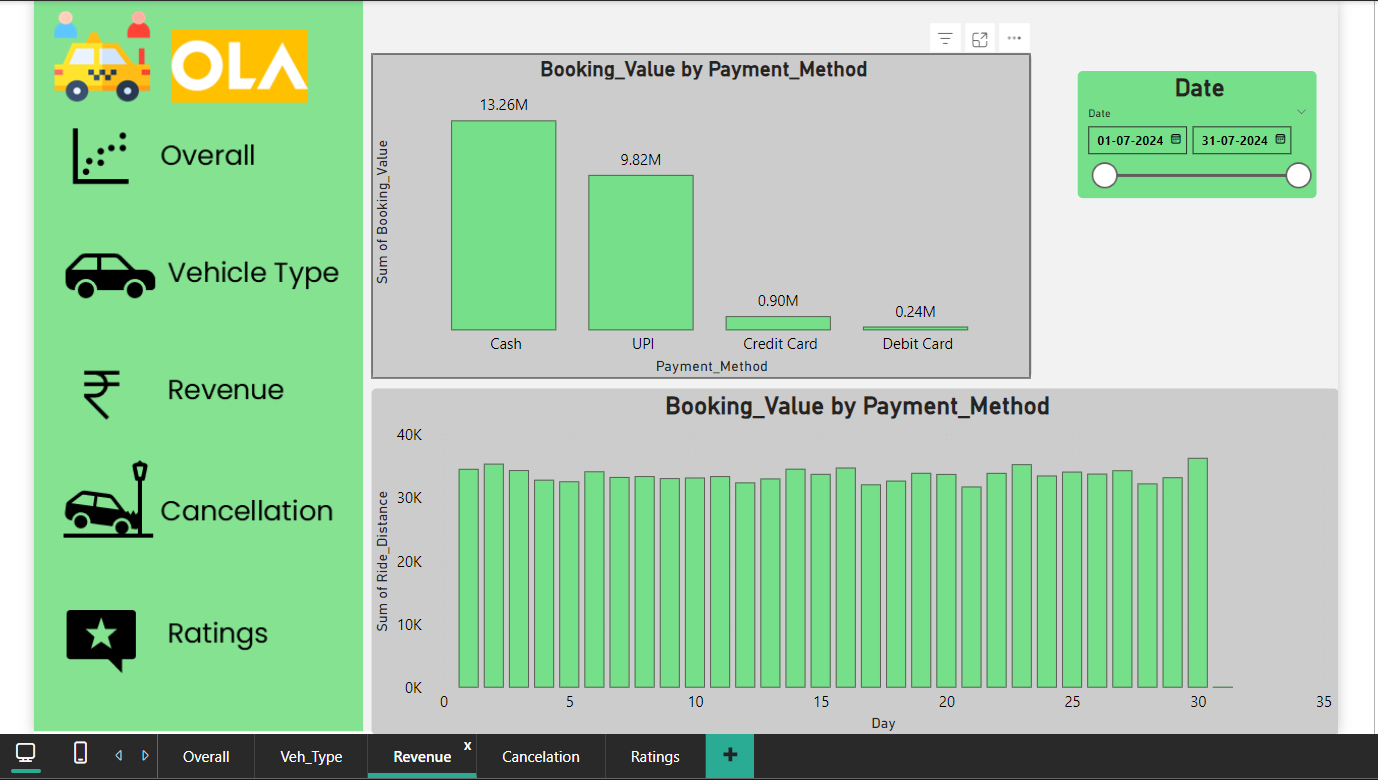

The dashboard page shown, as its layout file describes it:
{"tool":"powerbi","page":{"name":"Revenue","canvas":[1280,720],"ordinal":2},"visuals":[{"type":"actionButton","box":[0,109.2,321.5,83.4],"z":0},{"type":"actionButton","box":[0,223.3,321.5,83.4],"z":1000},{"type":"actionButton","box":[0,451.5,321.5,83.4],"z":2000},{"type":"actionButton","box":[0,586.5,321.5,83.4],"z":3000},{"type":"columnChart","title":"Booking_Value by Payment_Method","fields":{"Category":["ola_booking.Payment_Method"],"Y":["Sum(ola_booking.Booking_Value)"]},"box":[330.7,52.1,647.7,318.4],"z":4000},{"type":"columnChart","title":"Booking_Value by Payment_Method","fields":{"Y":["Sum(ola_booking.Ride_Distance)"],"Category":["ola_booking.Date.Variation.Date Hierarchy.Day"]},"box":[330.7,380.1,949.6,340.3],"z":5000},{"type":"slicer","title":"Date","fields":{"Values":["ola_booking.Date"]},"box":[1025,68.6,234.6,124.9],"z":6000}]}

Visuals, with their boxes in screenshot pixels (x1, y1, x2, y2):
actionButton: (29,105,358,190)
actionButton: (29,221,358,307)
actionButton: (29,455,358,541)
actionButton: (29,593,358,679)
"Booking_Value by Payment_Method" columnChart: (367,46,1031,372)
"Booking_Value by Payment_Method" columnChart: (367,382,1340,731)
"Date" slicer: (1078,63,1319,191)
